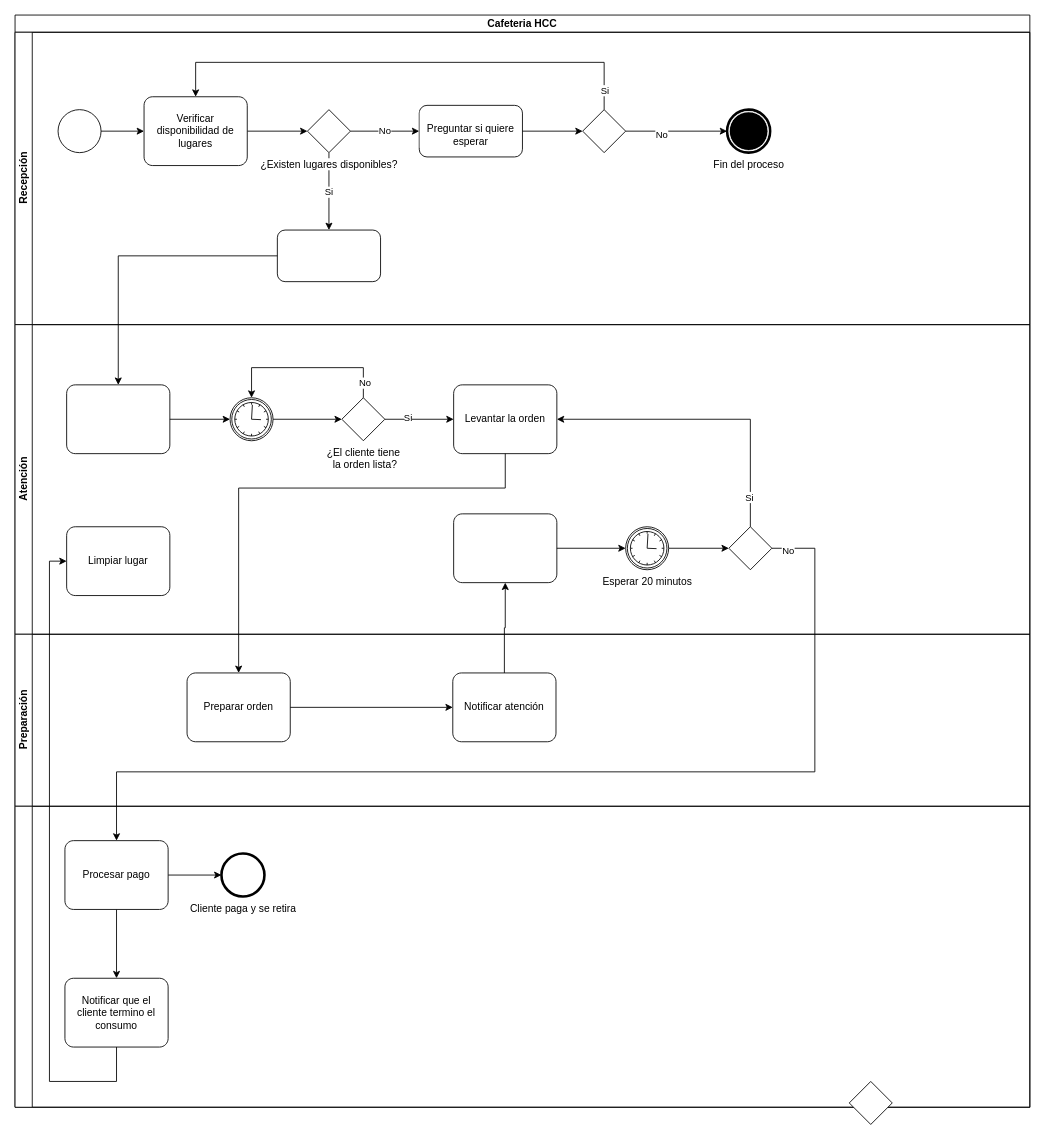
The diagram is 1045 pixels wide and 1140 high, and some of its shapes have lost their labels. Each missing label, with the box of its shape:
Asignar lugar: (276, 229, 381, 282)
Caja: (14, 805, 1030, 1107)
Cliente llega a cafeteria: (57, 109, 101, 153)
Entregar menú: (66, 384, 170, 454)
Entregar orden al cliente: (453, 513, 557, 583)
Esperar 5 minutos: (229, 397, 273, 441)
¿Cliente quiere esperar?: (582, 109, 626, 153)
¿El cliente necesita algo más?: (728, 526, 772, 570)
